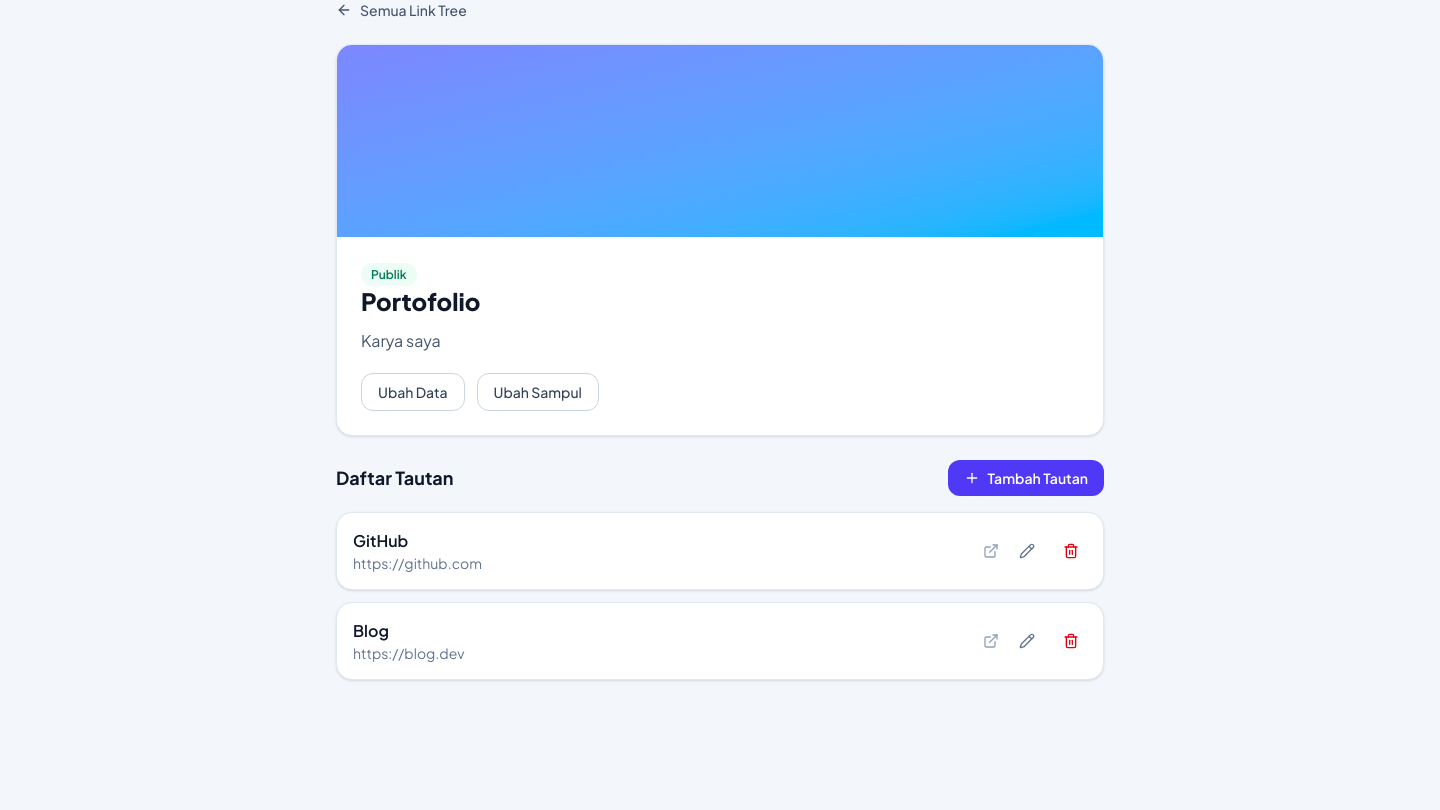
DetailPage › ubah tautan lalu tambah tautan: modal tambah kembali kosong
Expected: the heading "Portofolio" is shown, [361,286,480,316]
Click the button named "Ubah GitHub": point(1027, 551) [1011,535,1043,567]
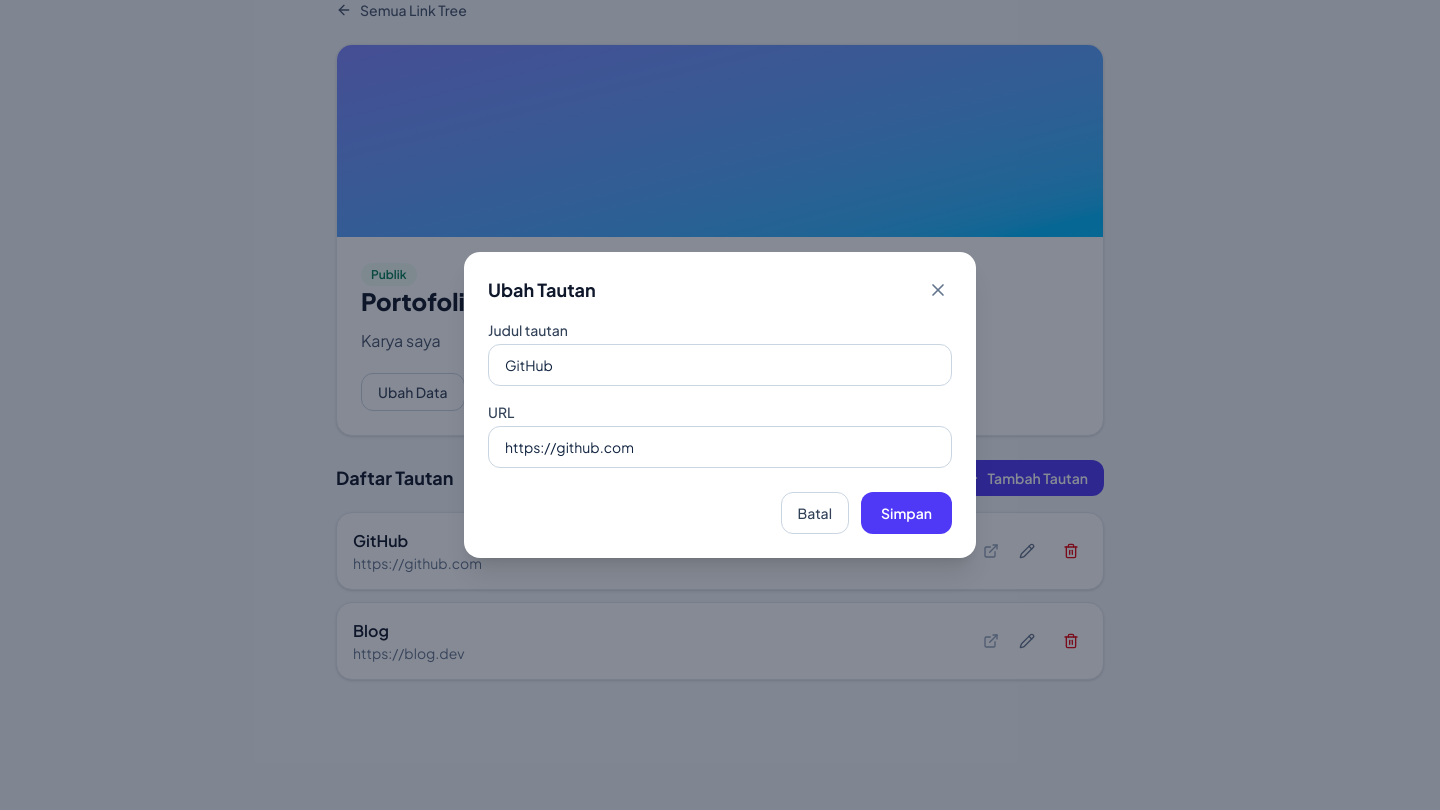
Result: the dialog "Ubah Tautan" is shown at [464,252,976,558]
Click the button "Batal": point(815, 513) [780,492,849,534]
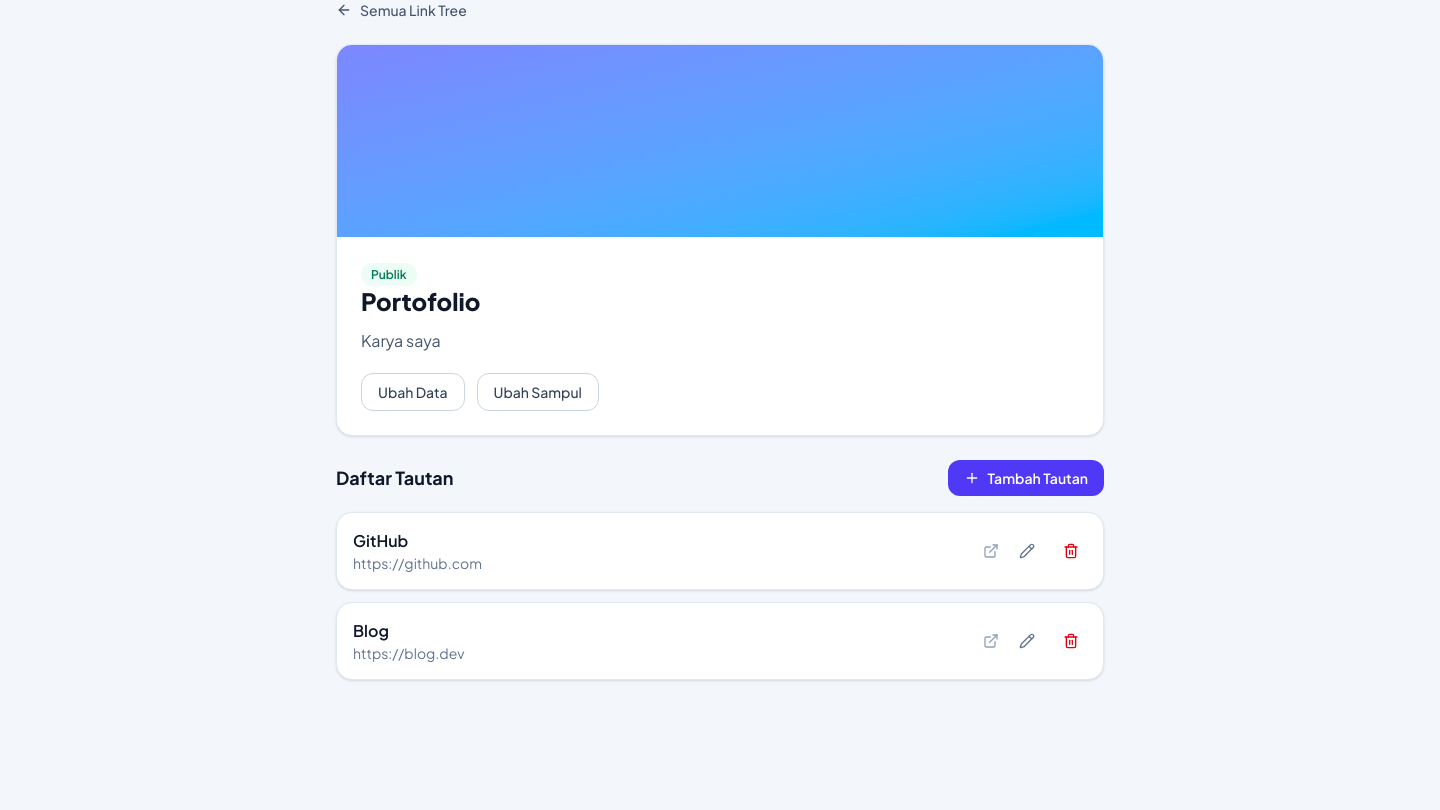
Result: the dialog is gone
Click the button "Tambah Tautan": point(1026, 478) [948,460,1104,496]
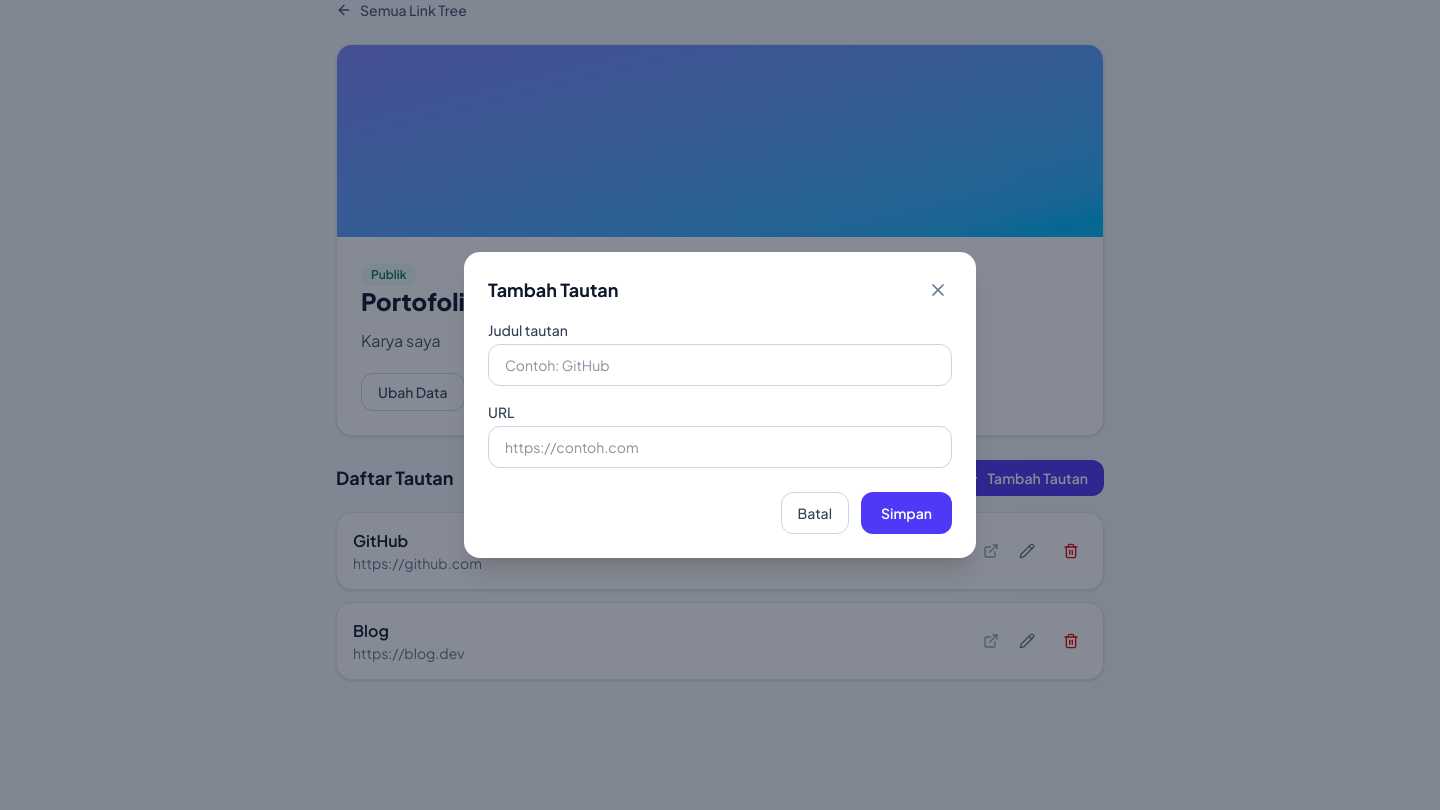
Result: the dialog "Tambah Tautan" is shown at [464,252,976,558]
Result: the field labelled "Judul tautan" is empty at [488,344,952,386]
